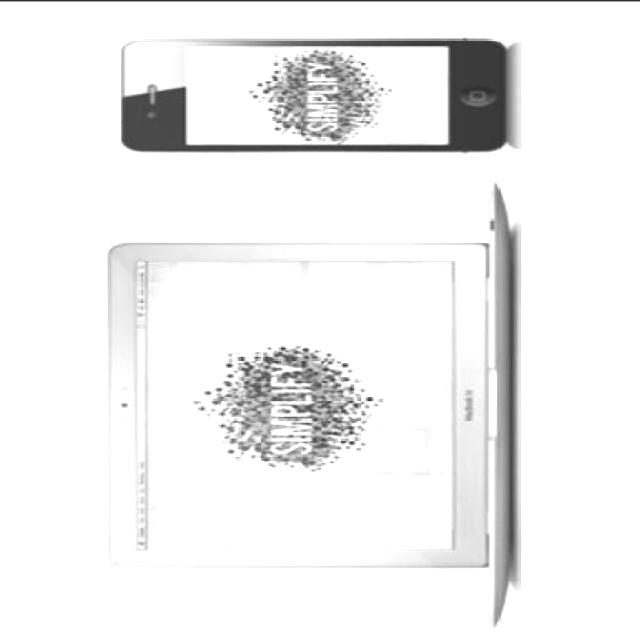fake: (112, 39, 490, 156)
